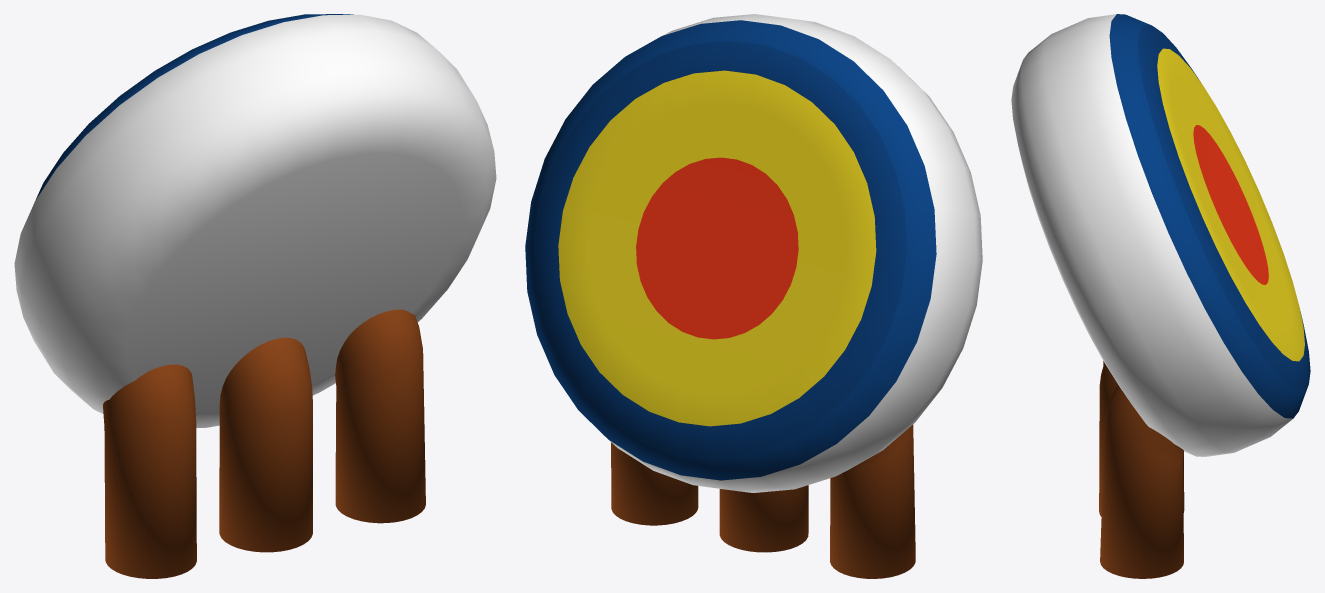
The model's file is trap_target_2.glb.
3 renders of one model, left to right at view 1: azimuth 30°, elevation 25°; view 2: azimuth 150°, elevation 25°; view 3: azimuth 270°, elevation 25°, orthographic. The views are drawn at different scales.
Parts seen in each view (by area): view 1: Cylinder.021_visual; view 2: Cylinder.021_visual; view 3: Cylinder.021_visual.
Part boxes in pixels (box(x1,y1,x2,y2)): Cylinder.021_visual: box(14, 14, 496, 578); Cylinder.021_visual: box(525, 14, 982, 578); Cylinder.021_visual: box(1011, 14, 1310, 578).
Size of what is drawn, in the model's own units: 2.43 by 2.8 by 1.59.
Materials: 1 (1 with a texture image).
